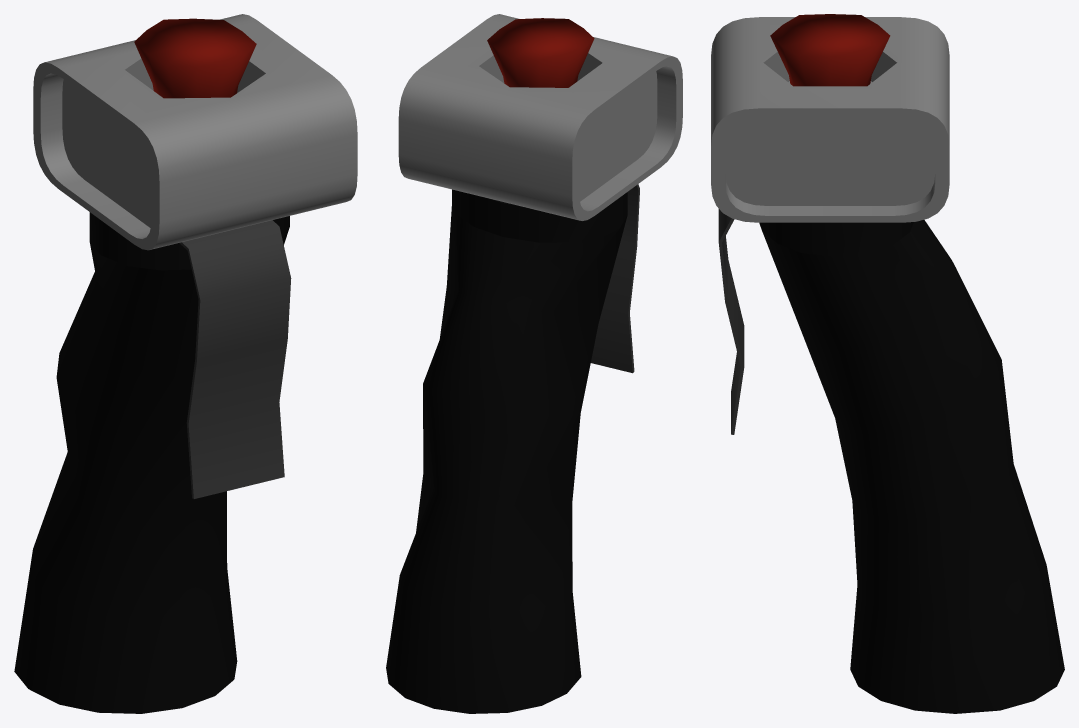
Rendered from Detonatorhand.fbx.
3 renders of one model, left to right at view 1: azimuth 30°, elevation 25°; view 2: azimuth 150°, elevation 25°; view 3: azimuth 270°, elevation 25°, orthographic. The views are drawn at different scales.
Parts seen in each view (by area): view 1: Cylinder001, Object002, Object003, Object001; view 2: Cylinder001, Object002, Object001, Object003; view 3: Cylinder001, Object002, Object001, Object003.
Boxes of the visible parts, x1,y1,x2,y2 form: Cylinder001: [14, 212, 289, 713]; Object002: [33, 14, 357, 250]; Object003: [179, 220, 291, 498]; Object001: [134, 18, 256, 98]; Cylinder001: [386, 189, 627, 713]; Object002: [398, 14, 682, 220]; Object001: [487, 18, 594, 87]; Object003: [591, 184, 639, 373]; Cylinder001: [759, 220, 1064, 713]; Object002: [711, 17, 949, 222]; Object001: [770, 14, 890, 86]; Object003: [718, 209, 744, 434].
Bounding box in the file's own units: 4.12 × 13.35 × 6.74.
